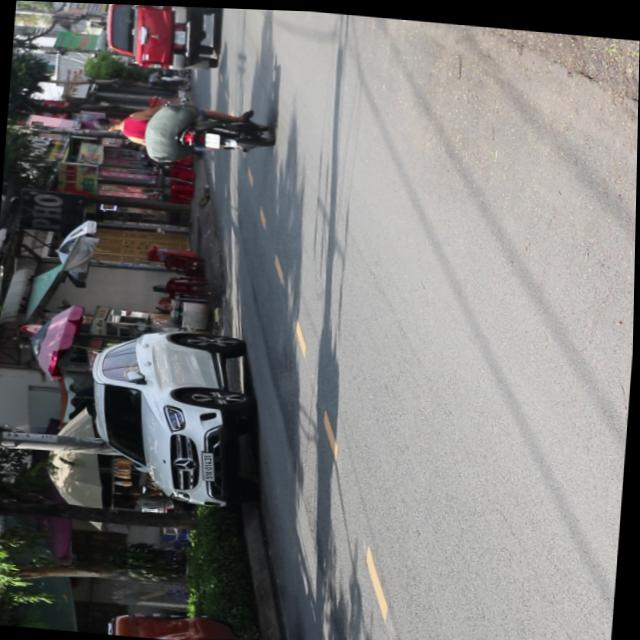licenseplate: (88, 94, 276, 169)
motorcyclist: (91, 114, 122, 132)
nohelmet: (204, 132, 221, 147)
